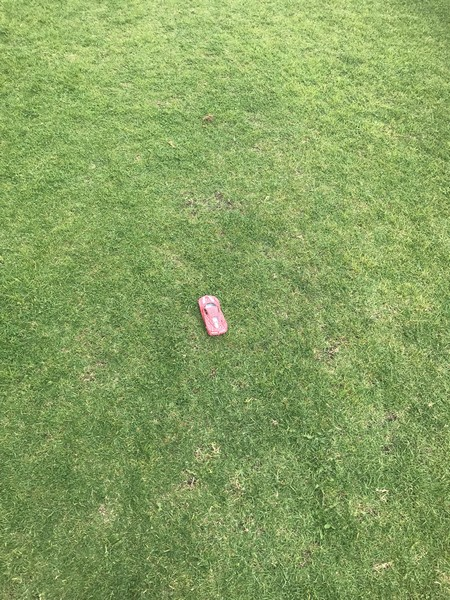RC: (197, 293, 231, 338)
